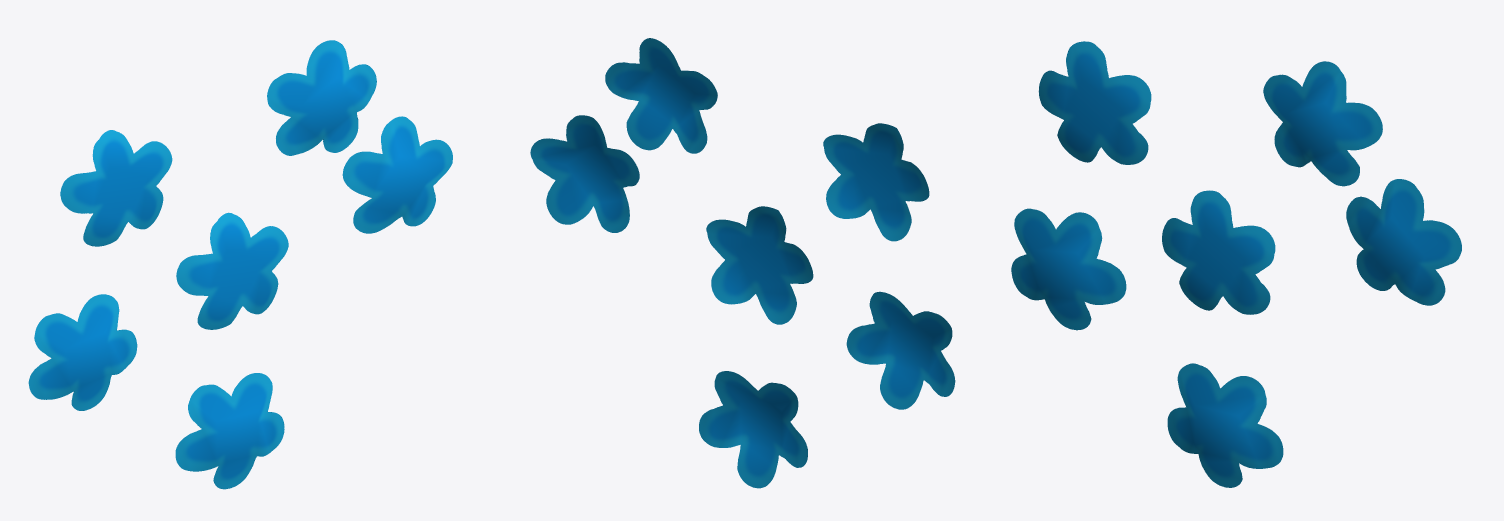
File: BlueFlower.fbx
3 views of the same model, side by side, from view 1: azimuth 30°, elevation 25°; view 2: azimuth 150°, elevation 25°; view 3: azimuth 330°, elevation 25° (orthographic). The views are drawn at different scales.
Visible parts, largest first — view 1: BlueFlower; view 2: BlueFlower; view 3: BlueFlower.
Part boxes in pixels (left/top/right/bottom): BlueFlower: left=28, top=40, right=452, bottom=489; BlueFlower: left=530, top=38, right=955, bottom=488; BlueFlower: left=1011, top=41, right=1461, bottom=487.
Bounding box in the file's own units: 795 × 738 × 27.31.
